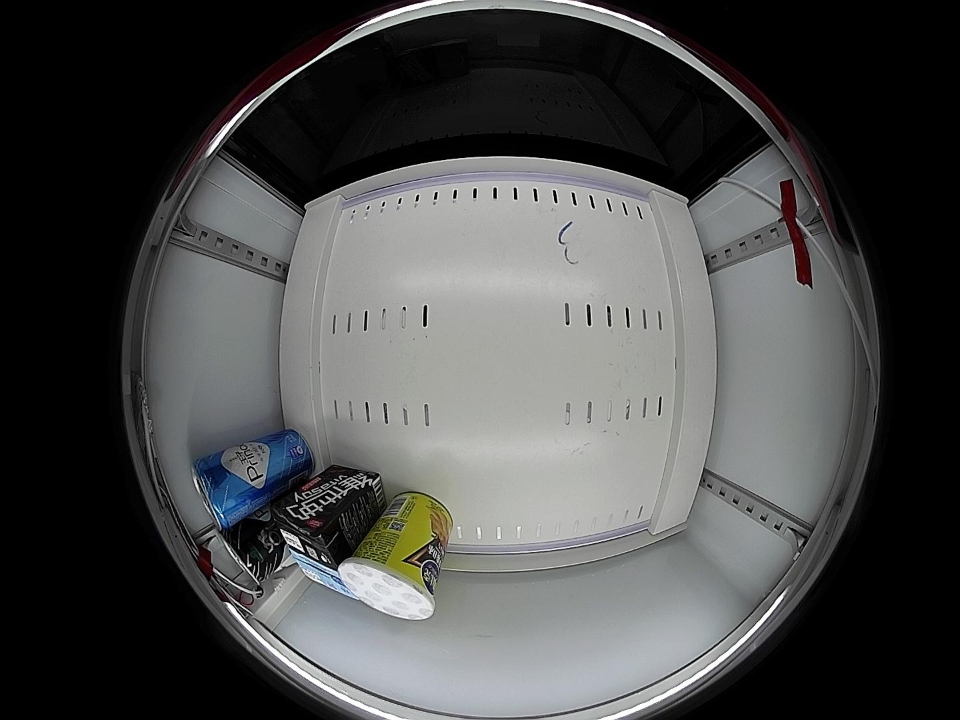kebike: (337, 548, 437, 620)
qingdaowangzi-1: (221, 524, 283, 583)
qingdaowangzi-2: (191, 451, 251, 530)
weitanai2: (271, 496, 347, 571)
weitanaiditang: (288, 548, 354, 600)
